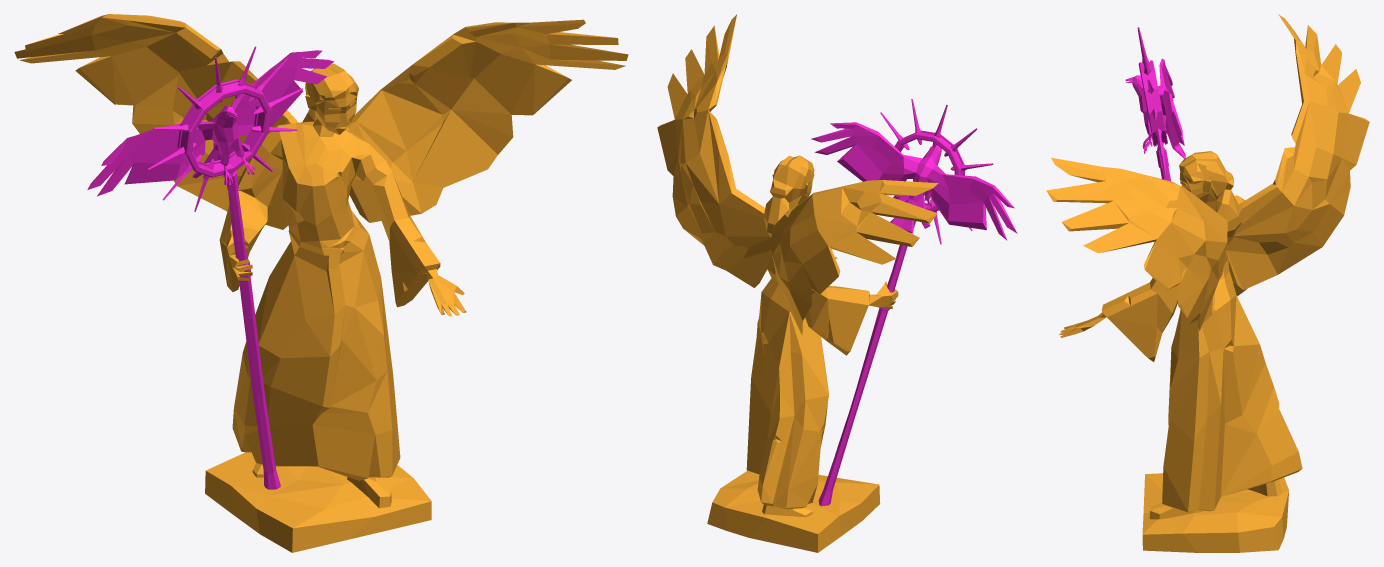
Rendered from SM_Statue_Angel_Standing_Blessing_Fantasy.fbx.
3 renders of one model, left to right at view 1: azimuth 30°, elevation 25°; view 2: azimuth 150°, elevation 25°; view 3: azimuth 270°, elevation 25°, orthographic. The views are drawn at different scales.
Parts seen in each view (by area): view 1: SM_Statue_Angel_Standing_Blessing_Fantasy; view 2: SM_Statue_Angel_Standing_Blessing_Fantasy; view 3: SM_Statue_Angel_Standing_Blessing_Fantasy.
Part boxes in pixels (<box>): SM_Statue_Angel_Standing_Blessing_Fantasy: <box>14,14,628,552</box>; SM_Statue_Angel_Standing_Blessing_Fantasy: <box>657,14,1017,552</box>; SM_Statue_Angel_Standing_Blessing_Fantasy: <box>1046,14,1369,552</box>.
Bounding box in the file's own units: 2.13 × 2.17 × 1.47.
